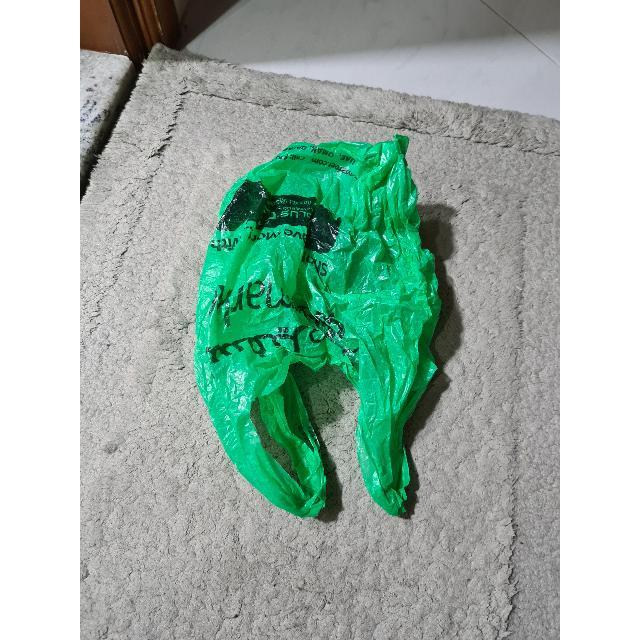Bolsa-de-nilon: (195, 135, 440, 517)
